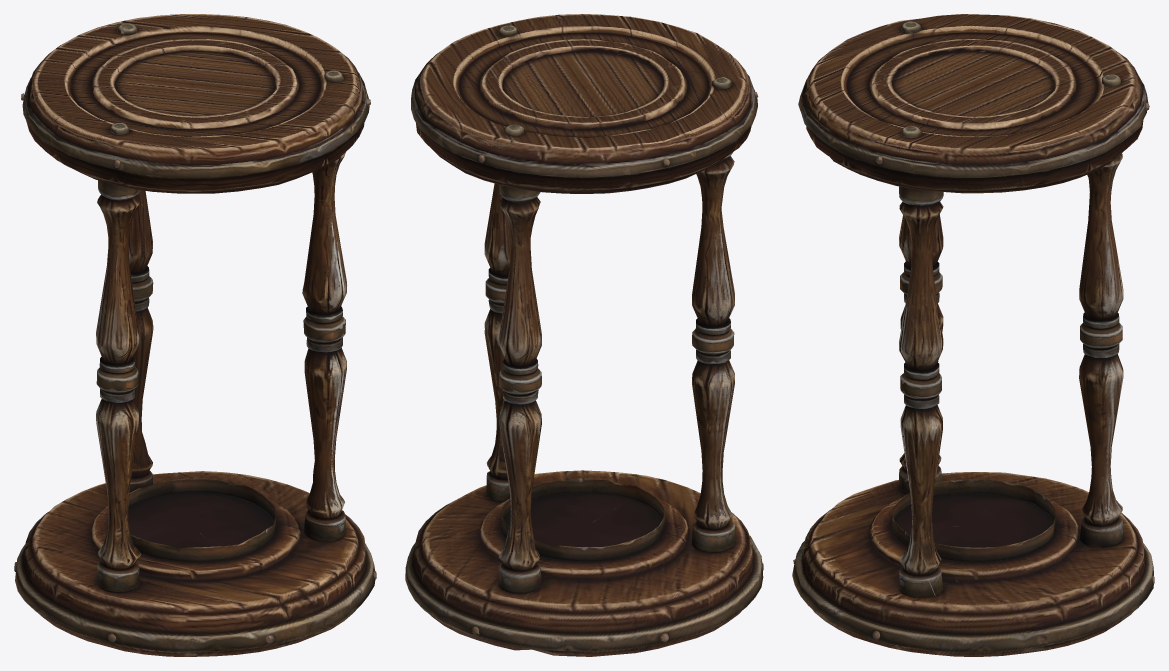
The model's file is hourglass.glb.
3 views of the same model, side by side, from view 1: azimuth 30°, elevation 25°; view 2: azimuth 150°, elevation 25°; view 3: azimuth 270°, elevation 25° (orthographic).
Size of the model in its own units: 0.6089 by 0.9487 by 0.6138.
1 material, 1 textured.
